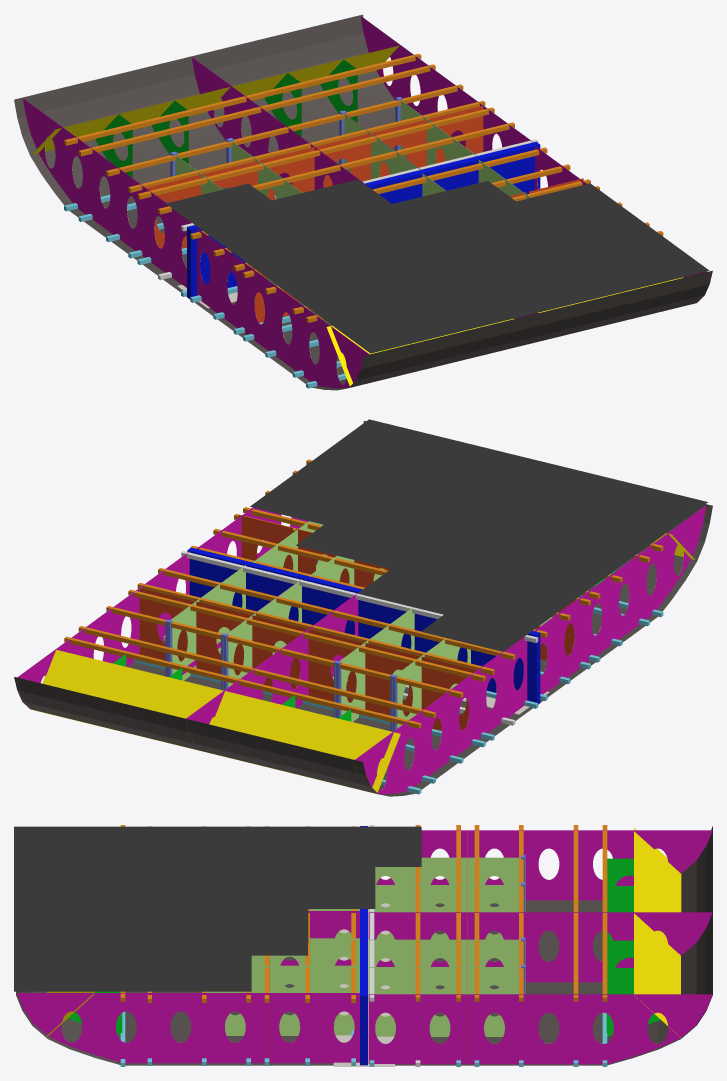
File: longitudinal.glb
3 renders of one model, top to bottom at view 1: azimuth 30°, elevation 25°; view 2: azimuth 150°, elevation 25°; view 3: azimuth 270°, elevation 25°, orthographic.
Visible parts, largest first — view 1: TankTop, hull1stl.002, Plane.001, Plane.011, Center_Girder, MarginPlate, Cube.032, Cube.020, Cube.010, Cube.013, Cube.017, Cube.016 (+14 smaller); view 2: TankTop, Plane.001, hull1stl.002, MarginPlate, Plane.011, Center_Girder, Cube.032, Cube.020, Cube.010, Cube.016, Cube.008, Cube.017 (+12 smaller); view 3: Plane.001, TankTop, Plane.011, hull1stl.002, MarginPlate, Center_Girder, Cube.032, Cube.020, Cube.010, Cube.016, Cube.013, Plane (+7 smaller).
Part boxes in pixels (x1,y1,x2,y2): TankTop: (166, 179, 709, 353); hull1stl.002: (14, 14, 712, 390); Plane.001: (23, 16, 533, 287); Plane.011: (197, 146, 706, 388); Center_Girder: (187, 142, 540, 299); MarginPlate: (32, 45, 399, 154); Cube.032: (190, 147, 649, 314); Cube.020: (78, 64, 435, 156); Cube.010: (64, 53, 421, 145); Cube.013: (137, 107, 494, 199); Cube.017: (106, 84, 463, 176); Cube.016: (128, 101, 485, 192); TankTop: (250, 419, 707, 651); Plane.001: (17, 551, 527, 794); hull1stl.002: (14, 420, 712, 796); MarginPlate: (32, 650, 400, 793); Plane.011: (196, 505, 706, 694); Center_Girder: (187, 547, 540, 704); Cube.032: (190, 470, 649, 637); Cube.020: (78, 626, 435, 717); Cube.010: (64, 636, 421, 728); Cube.016: (128, 589, 485, 681); Cube.008: (158, 568, 515, 659); Cube.017: (106, 606, 463, 697); Plane.001: (368, 830, 712, 1064); TankTop: (14, 826, 421, 991); Plane.011: (17, 909, 359, 1063); hull1stl.002: (16, 826, 712, 1065); MarginPlate: (634, 828, 681, 1037); Center_Girder: (360, 826, 367, 1065); Cube.032: (147, 826, 355, 1002); Cube.020: (573, 825, 578, 1001); Cube.010: (602, 825, 607, 1001); Cube.016: (474, 825, 479, 1001); Cube.013: (456, 825, 460, 1001); Plane: (333, 903, 394, 1066).
Bounding box in the file's own units: 22.75 × 4.45 × 38.88.
